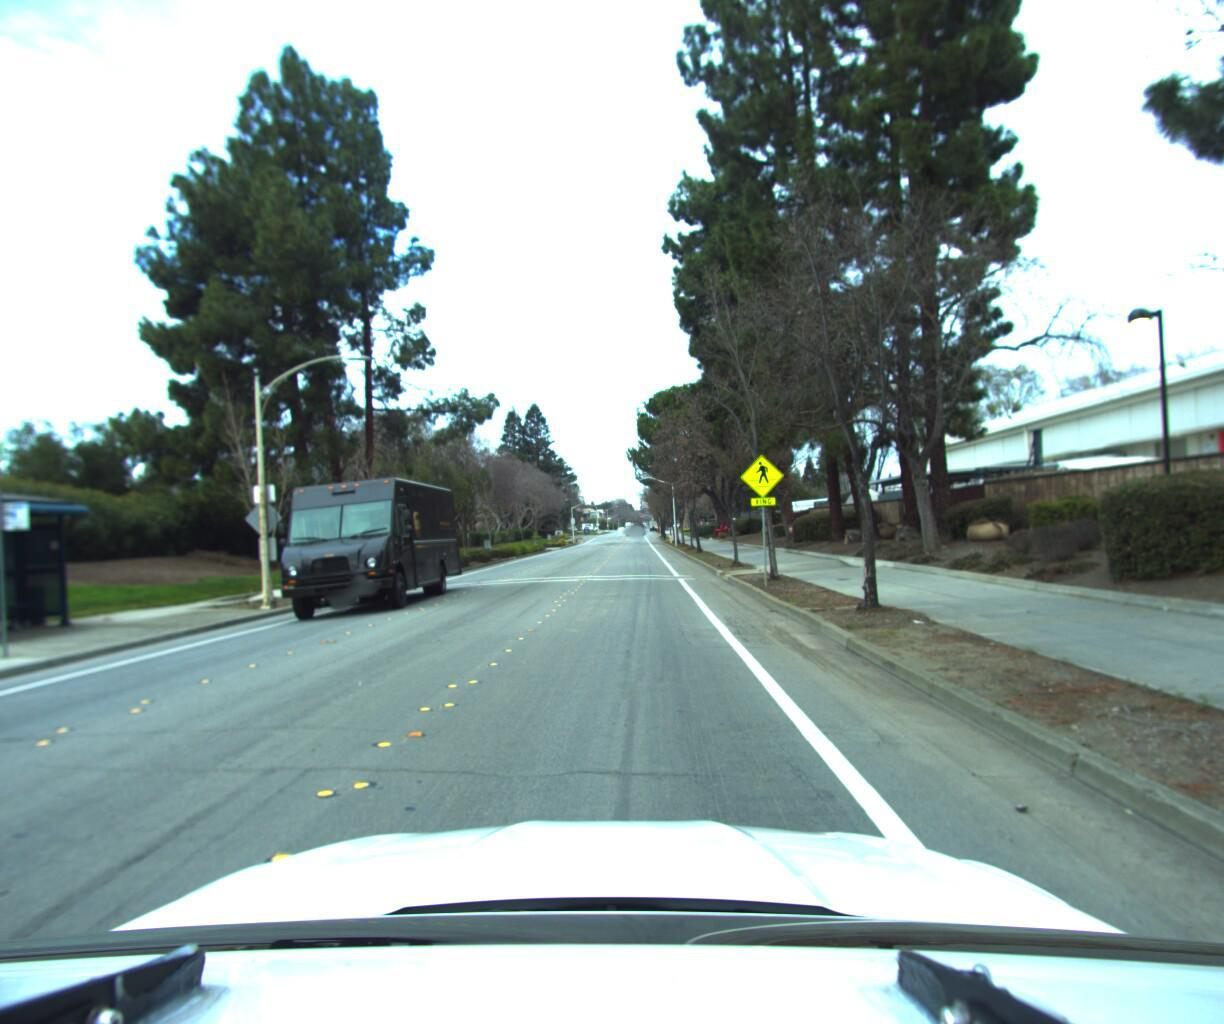other_vehicle: (777, 487, 902, 525)
truck: (252, 467, 469, 634)
